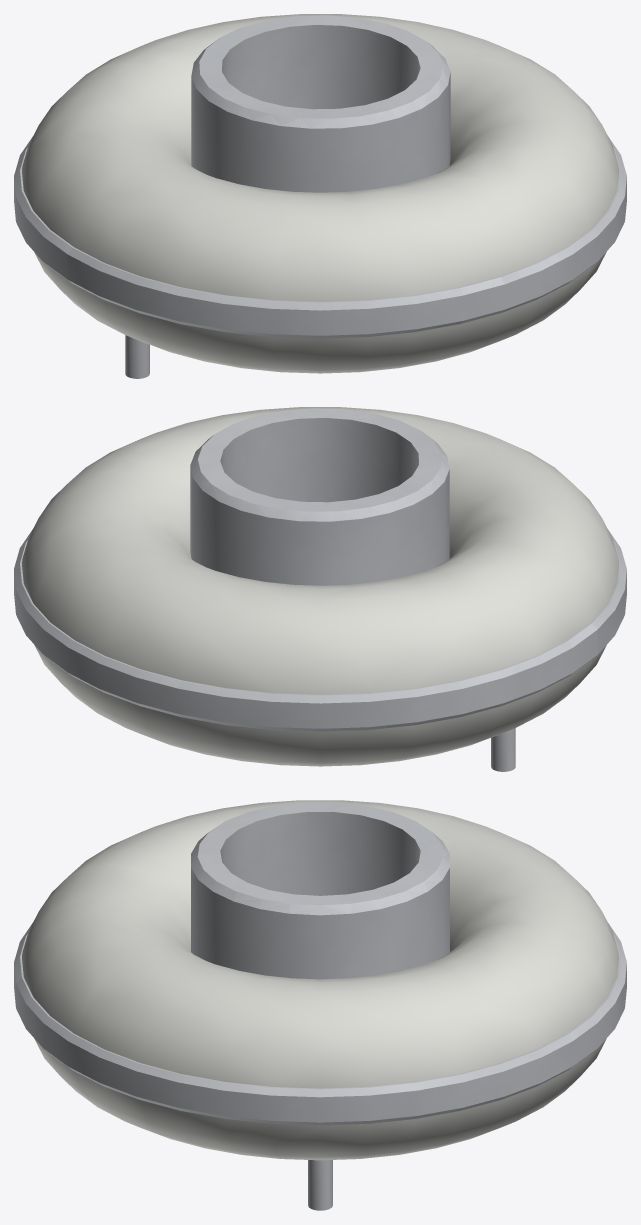
The model's file is ax_tank_08_toroidal_s.glb.
The picture shows the model from 3 angles, top to bottom: view 1: azimuth 30°, elevation 25°; view 2: azimuth 150°, elevation 25°; view 3: azimuth 270°, elevation 25°; orthographic projection.
Visible parts, largest first — view 1: torus_tank, inner_ring, girth_ring, feed_ports; view 2: torus_tank, inner_ring, girth_ring, feed_ports; view 3: torus_tank, inner_ring, girth_ring, feed_ports.
Part boxes in pixels (x1=…): torus_tank: x1=22, y1=14, x2=618, y2=373; inner_ring: x1=191, y1=15, x2=450, y2=192; girth_ring: x1=14, y1=135, x2=626, y2=338; feed_ports: x1=125, y1=335, x2=149, y2=378; torus_tank: x1=22, y1=407, x2=618, y2=766; inner_ring: x1=190, y1=408, x2=449, y2=585; girth_ring: x1=14, y1=528, x2=626, y2=731; feed_ports: x1=491, y1=728, x2=515, y2=771; torus_tank: x1=22, y1=800, x2=618, y2=1160; inner_ring: x1=191, y1=802, x2=449, y2=979; girth_ring: x1=14, y1=923, x2=626, y2=1125; feed_ports: x1=308, y1=1160, x2=332, y2=1210.
Size of the model in its own units: 1.23 by 0.58 by 1.23.
Materials: 3 (2 with a texture image).
